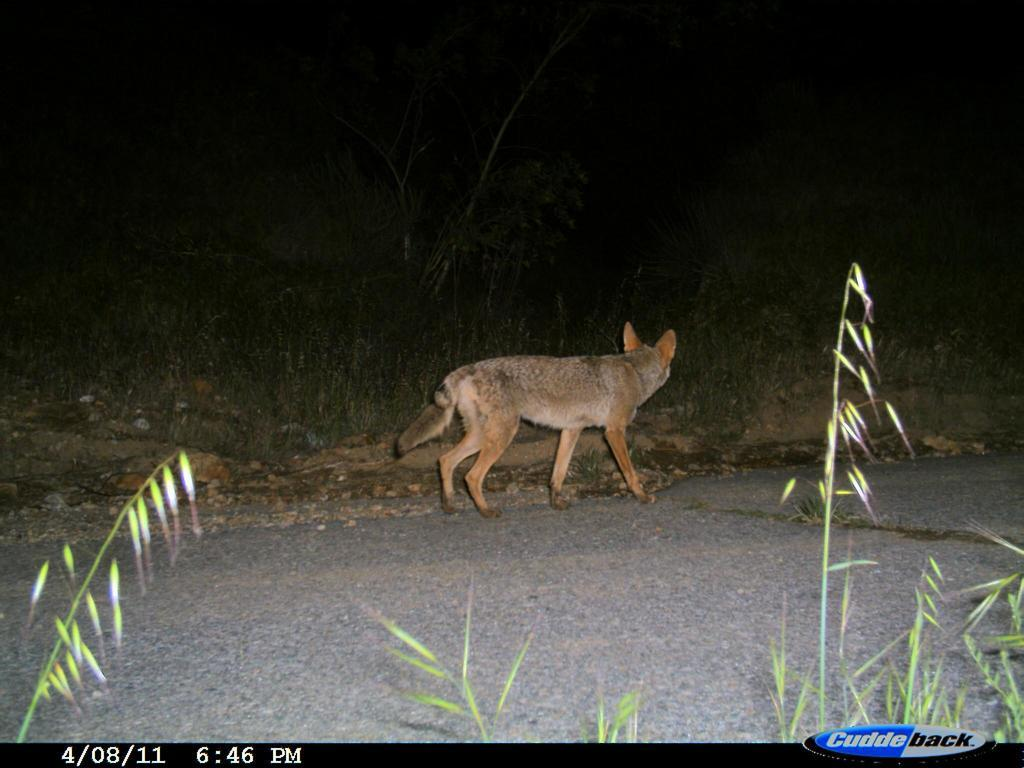coyote: (393, 323, 692, 523)
